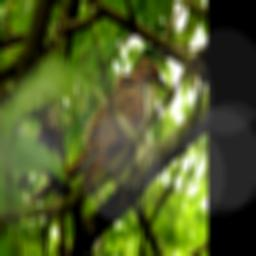Cuckoo: (26, 53, 170, 209)
